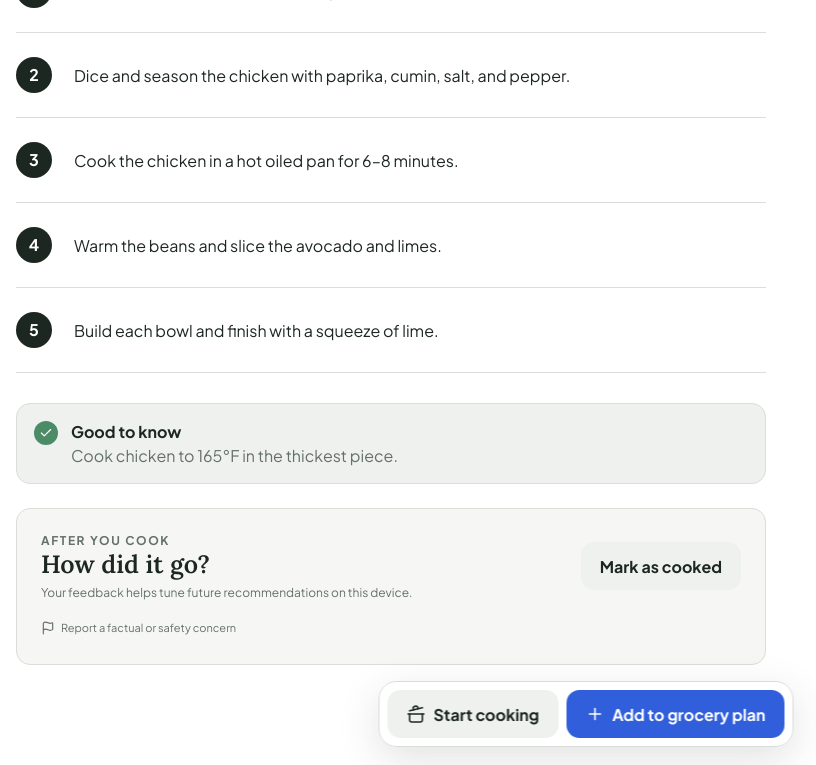
it: recipe feedback › records that a recipe was cooked and rated
The image size is (816, 765).
(page scrolled)
Click the button "Mark as cooked" at point(661, 566), box [581, 542, 741, 590]
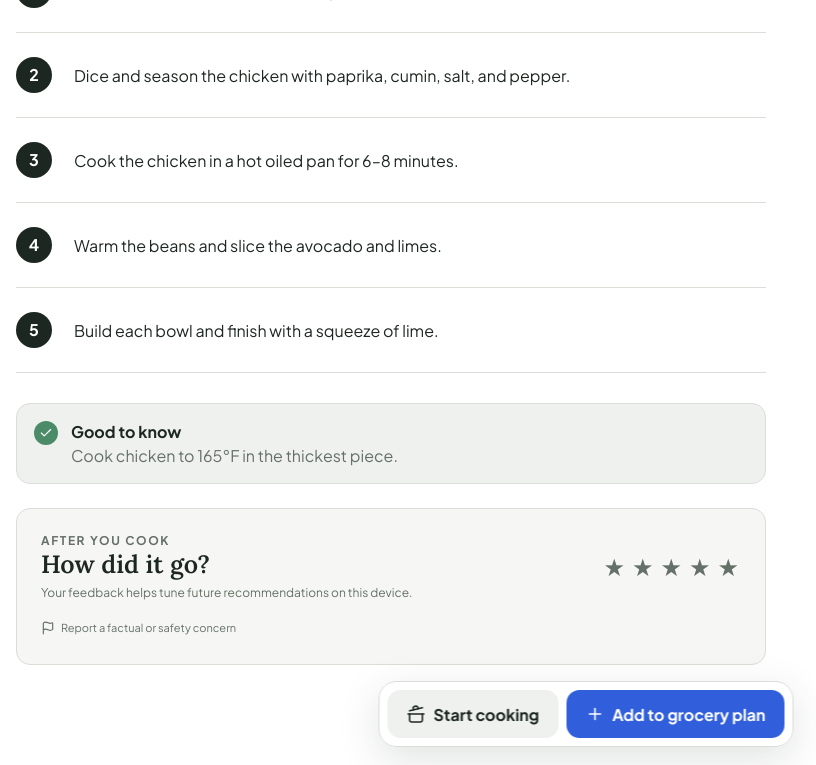
Click the button named "Rate 5 stars" at point(728, 566), box [716, 549, 741, 584]
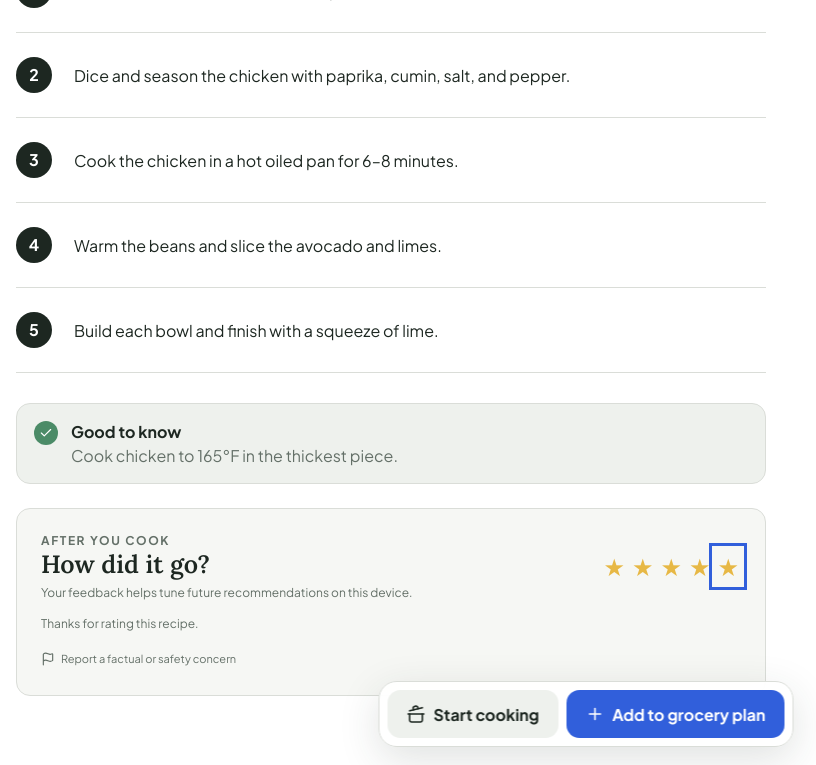
Result: the text "Thanks for rating this recipe." is shown at [41, 616, 198, 631]
